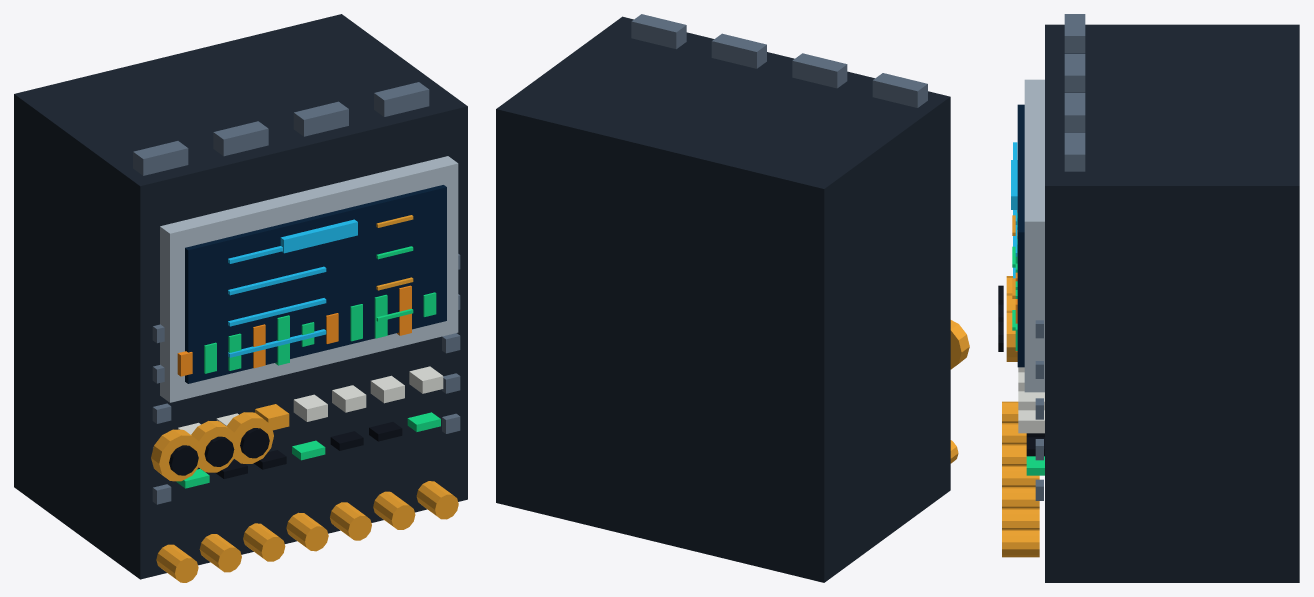
File: 48_L87_AdaptiveVibrationDampingController.fbx
3 views of the same model, side by side, from view 1: azimuth 30°, elevation 25°; view 2: azimuth 150°, elevation 25°; view 3: azimuth 270°, elevation 25° (orthographic).
Parts seen in each view (by area): view 1: L87_AdaptiveVibrationDampingController, L87_AdaptiveVibrationDampingController_Part_0009, L87_AdaptiveVibrationDampingController_Part_0012, L87_AdaptiveVibrationDampingController_Part_0011, L87_AdaptiveVibrationDampingController_Part_0013, L87_AdaptiveVibrationDampingController_Part_0010, L87_AdaptiveVibrationDampingController_Part_0015, L87_AdaptiveVibrationDampingController_Part_0017, L87_AdaptiveVibrationDampingController_Part_0014, L87_AdaptiveVibrationDampingController_Part_0018, L87_AdaptiveVibrationDampingController_Part_0016; view 2: L87_AdaptiveVibrationDampingController, L87_AdaptiveVibrationDampingController_Part_0009, L87_AdaptiveVibrationDampingController_Part_0013; view 3: L87_AdaptiveVibrationDampingController, L87_AdaptiveVibrationDampingController_Part_0009, L87_AdaptiveVibrationDampingController_Part_0017.
Boxes of the visible parts, left/top/right/bottom form: L87_AdaptiveVibrationDampingController: left=14, top=14, right=467, bottom=582; L87_AdaptiveVibrationDampingController_Part_0009: left=133, top=82, right=429, bottom=175; L87_AdaptiveVibrationDampingController_Part_0012: left=204, top=292, right=436, bottom=373; L87_AdaptiveVibrationDampingController_Part_0011: left=177, top=285, right=411, bottom=376; L87_AdaptiveVibrationDampingController_Part_0013: left=151, top=429, right=202, bottom=481; L87_AdaptiveVibrationDampingController_Part_0010: left=280, top=219, right=357, bottom=253; L87_AdaptiveVibrationDampingController_Part_0015: left=191, top=421, right=238, bottom=472; L87_AdaptiveVibrationDampingController_Part_0017: left=226, top=412, right=273, bottom=463; L87_AdaptiveVibrationDampingController_Part_0014: left=169, top=445, right=198, bottom=475; L87_AdaptiveVibrationDampingController_Part_0018: left=240, top=428, right=269, bottom=458; L87_AdaptiveVibrationDampingController_Part_0016: left=204, top=436, right=234, bottom=466; L87_AdaptiveVibrationDampingController: left=496, top=16, right=958, bottom=582; L87_AdaptiveVibrationDampingController_Part_0009: left=631, top=14, right=927, bottom=107; L87_AdaptiveVibrationDampingController_Part_0013: left=950, top=320, right=969, bottom=369; L87_AdaptiveVibrationDampingController: left=1002, top=24, right=1299, bottom=582; L87_AdaptiveVibrationDampingController_Part_0009: left=1064, top=14, right=1085, bottom=171; L87_AdaptiveVibrationDampingController_Part_0017: left=1006, top=310, right=1017, bottom=361.
Size of the model in its own units: 96.95 by 116 by 76.5.
